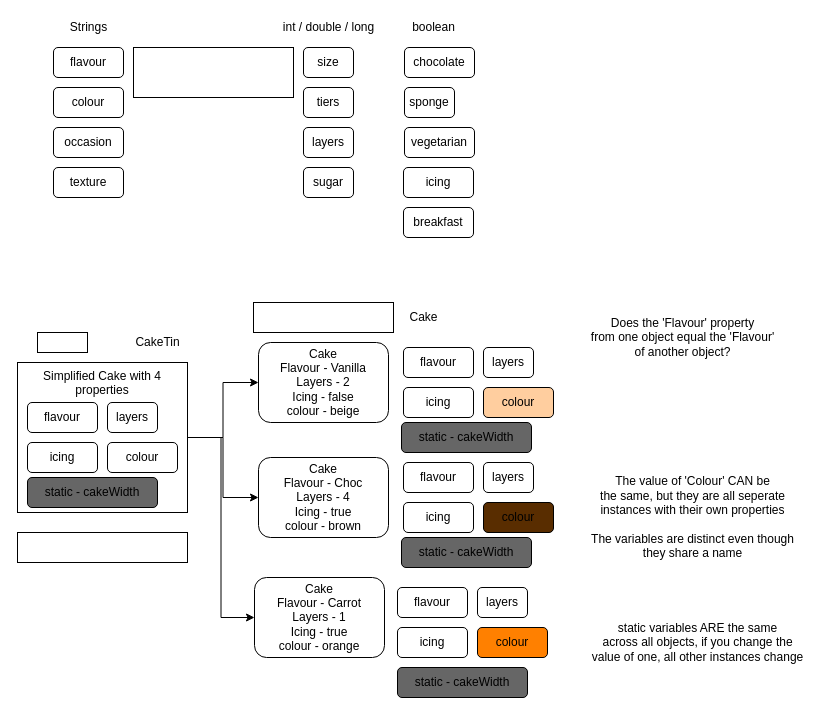
Some shapes in this 830 by 715 pixel diagram are drawn without their labels. The shapes that lost their labels are listed below. From the top down, each one's centre as x and y in pixels, then its label:
the point at 213,72: Properties of a cake
the point at 323,317: Instances of an Object Objects
the point at 62,342: Class
the point at 102,547: A class is a set of blueprints to create OBJECTS
